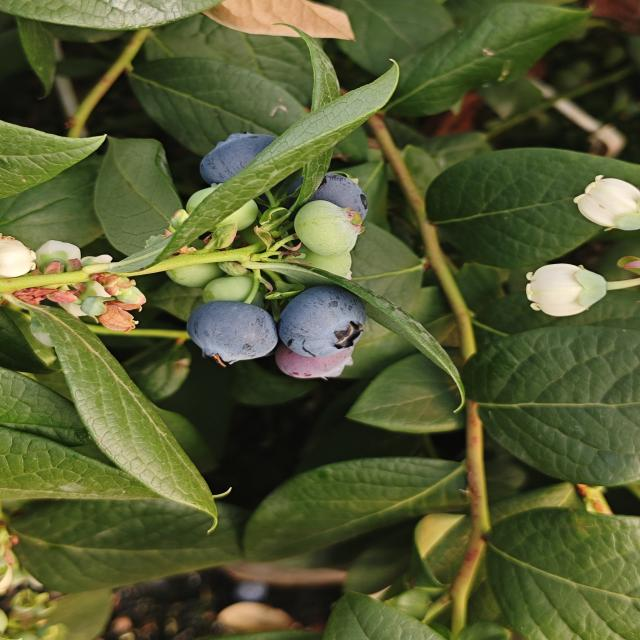ripe: (195, 126, 303, 196), (276, 284, 368, 361), (184, 299, 279, 369), (288, 168, 381, 227)
